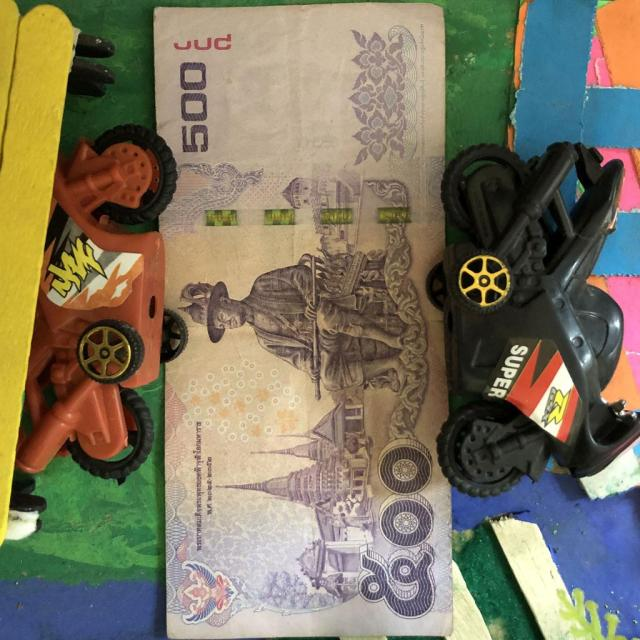THAI500: (154, 3, 451, 638)
